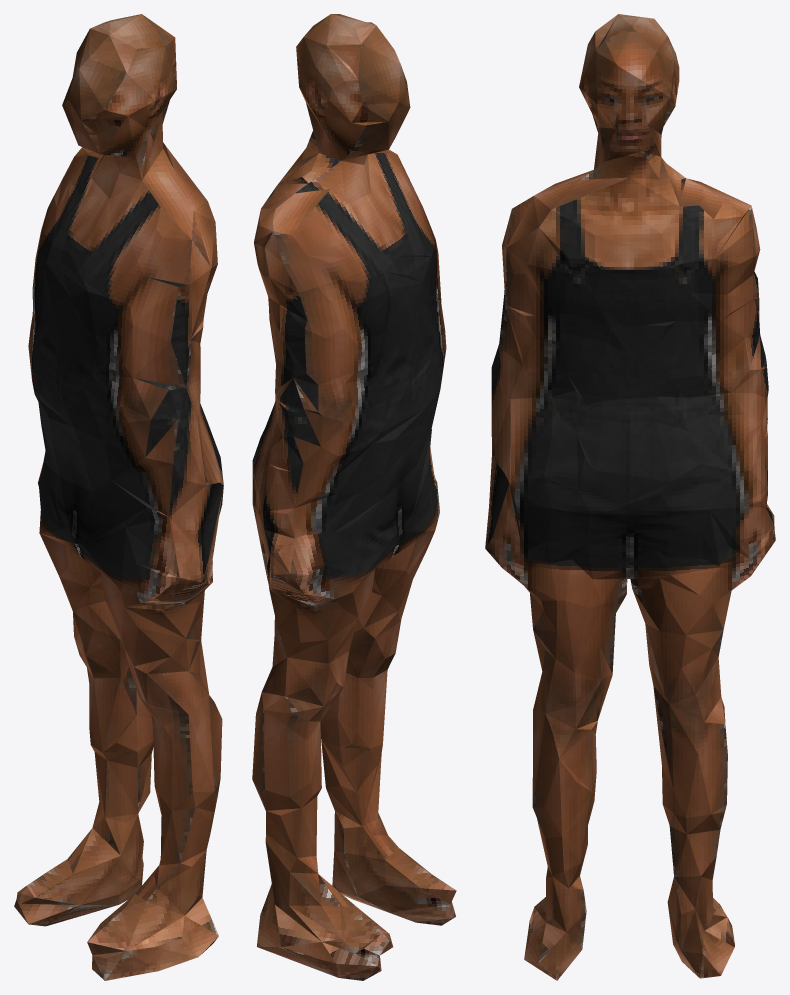
File: personaje.base.cuerpo_mujer_4.glb
3 views of the same model, side by side, from view 1: azimuth 30°, elevation 25°; view 2: azimuth 150°, elevation 25°; view 3: azimuth 270°, elevation 25° (orthographic). The views are drawn at different scales.
Parts seen in each view (by area): view 1: personaje.base.cuerpo_mujer_4; view 2: personaje.base.cuerpo_mujer_4; view 3: personaje.base.cuerpo_mujer_4.
Part boxes in pixels (x1,y1,x2,y2): personaje.base.cuerpo_mujer_4: (14, 14, 223, 980); personaje.base.cuerpo_mujer_4: (252, 14, 456, 980); personaje.base.cuerpo_mujer_4: (485, 14, 775, 980).
Bounding box in the file's own units: 0.2573 × 1.61 × 0.4462.
Materials: 1 (1 with a texture image).
